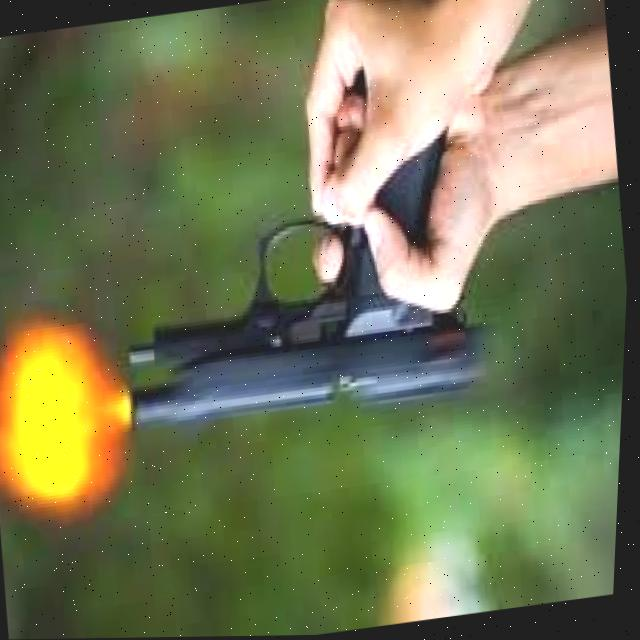pistol: (108, 189, 506, 447)
